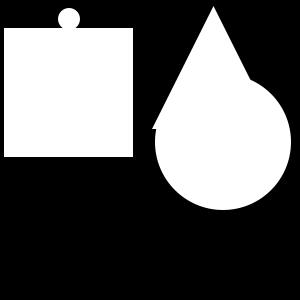circle: (4, 28, 133, 157)
rectangle: (155, 74, 291, 210), (58, 8, 80, 30)
triangle: (152, 6, 275, 129)
